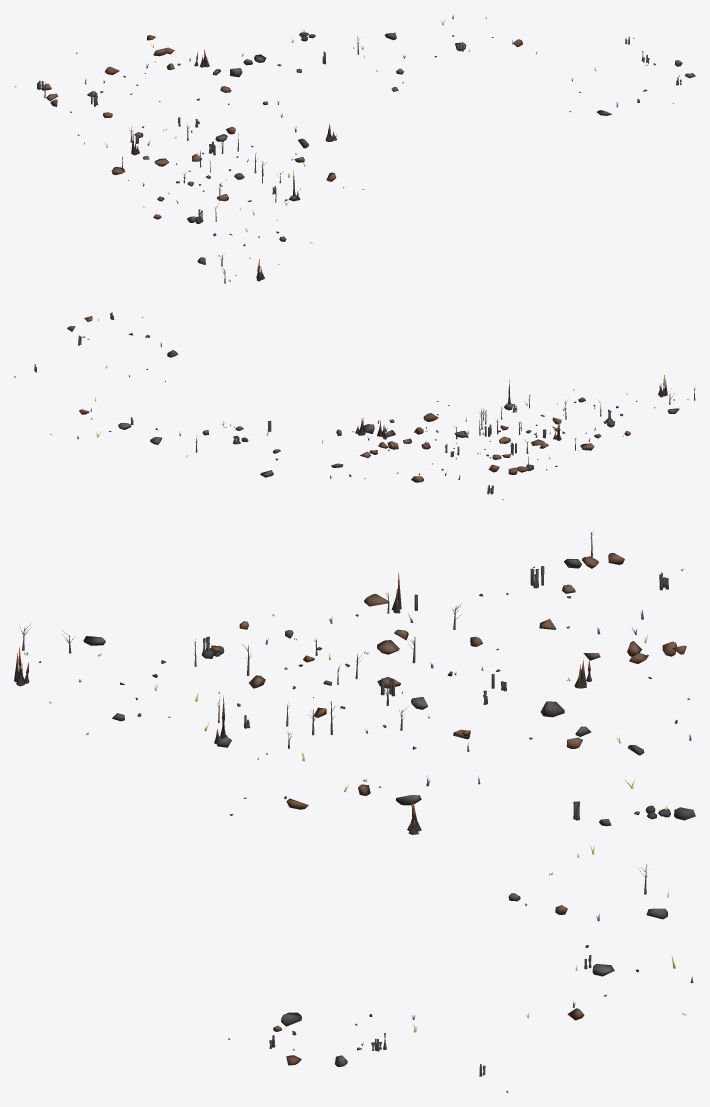
File: ash_land_scatter_c18_28.glb
3 views of the same model, one above another, from view 1: azimuth 30°, elevation 25°; view 2: azimuth 150°, elevation 25°; view 3: azimuth 270°, elevation 25° (orthographic). The views are drawn at different scales.
Parts seen in each view (by area): view 1: ash_land_scatter_c18_28; view 2: ash_land_scatter_c18_28; view 3: ash_land_scatter_c18_28.
Part boxes in pixels (bbox=[...]): ash_land_scatter_c18_28: bbox=[14, 15, 695, 283]; ash_land_scatter_c18_28: bbox=[14, 312, 695, 500]; ash_land_scatter_c18_28: bbox=[14, 532, 695, 1092].
Bounding box in the file's own units: 252 × 37.45 × 164.
